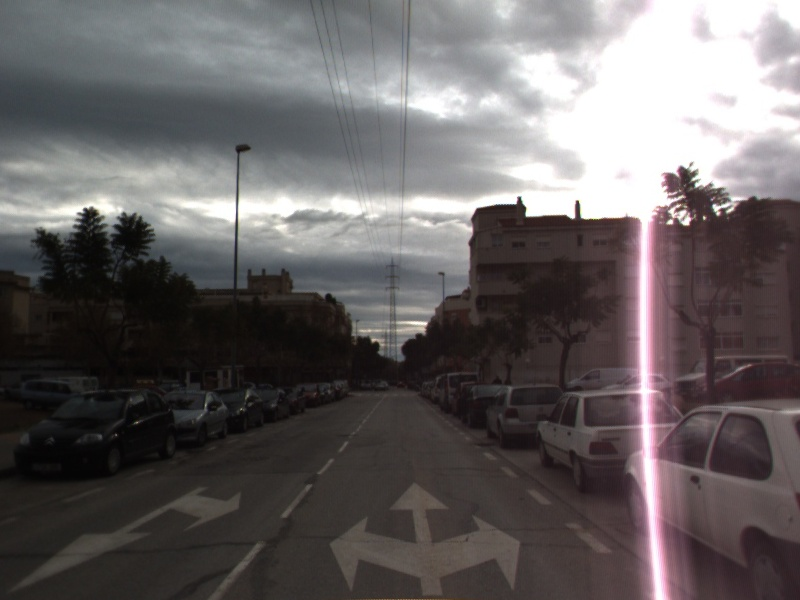STRAIGHT_LEFT_RIGHT: (327, 478, 524, 598)
